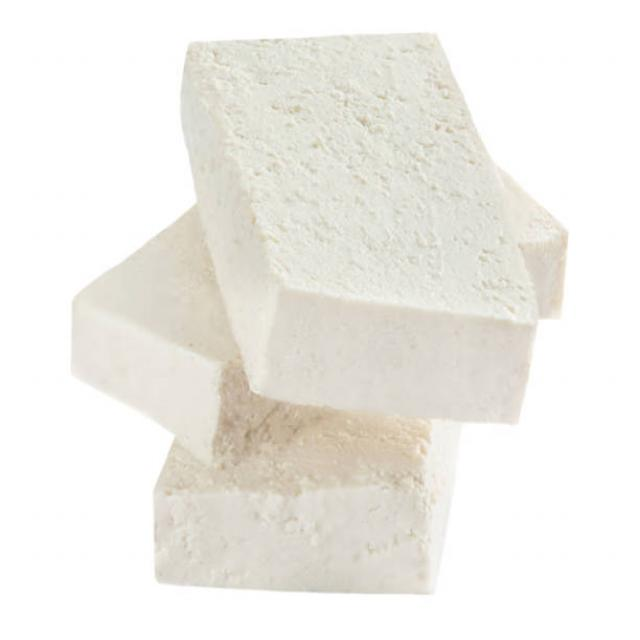tofu: (173, 26, 540, 437), (144, 449, 467, 605)
